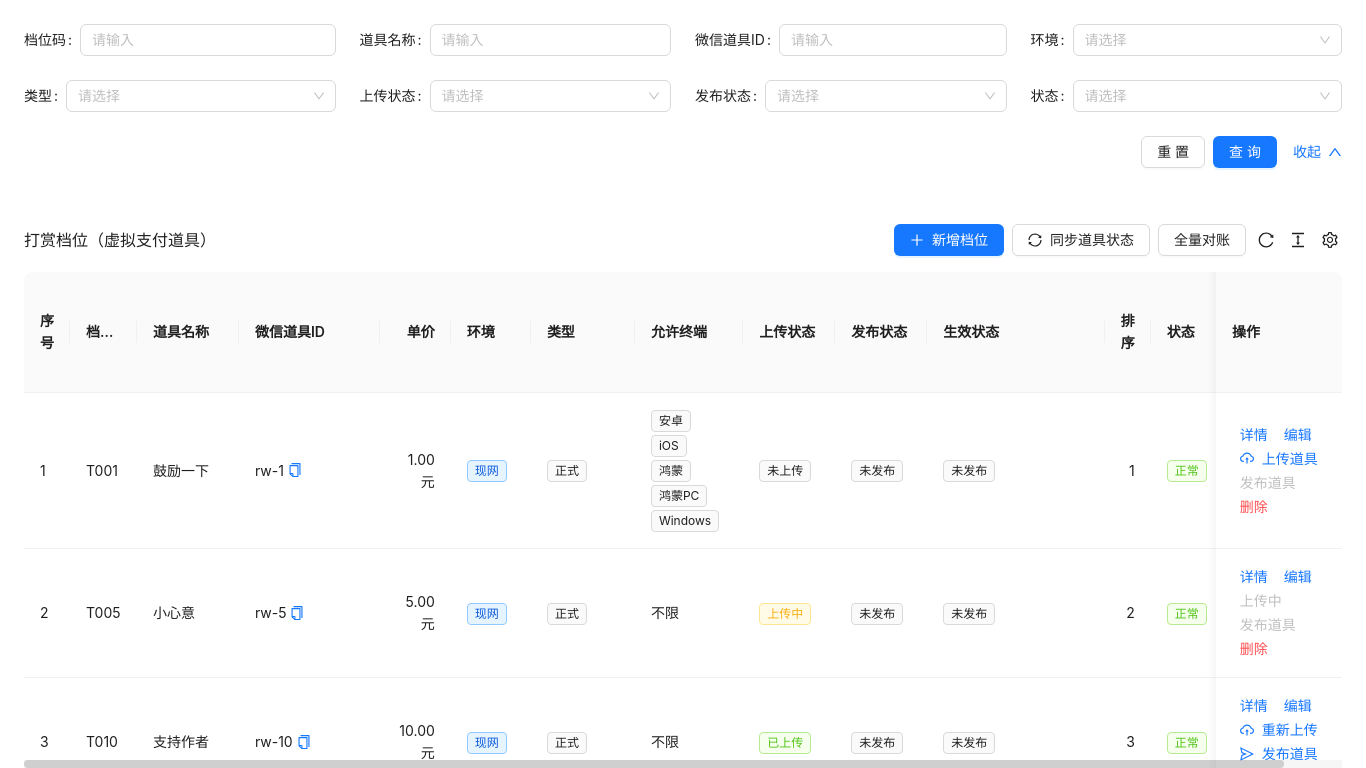
Scenario: 打赏档位页 · 道具上传/发布（异步任务语义） › 受理成功（pending=true）提示「等待微信处理」，不显示「上传成功」，且只出网一次
The width and height of the screenshot is (1366, 768).
Click the button "上传道具" at [1279, 458], box [1232,446,1326,470]
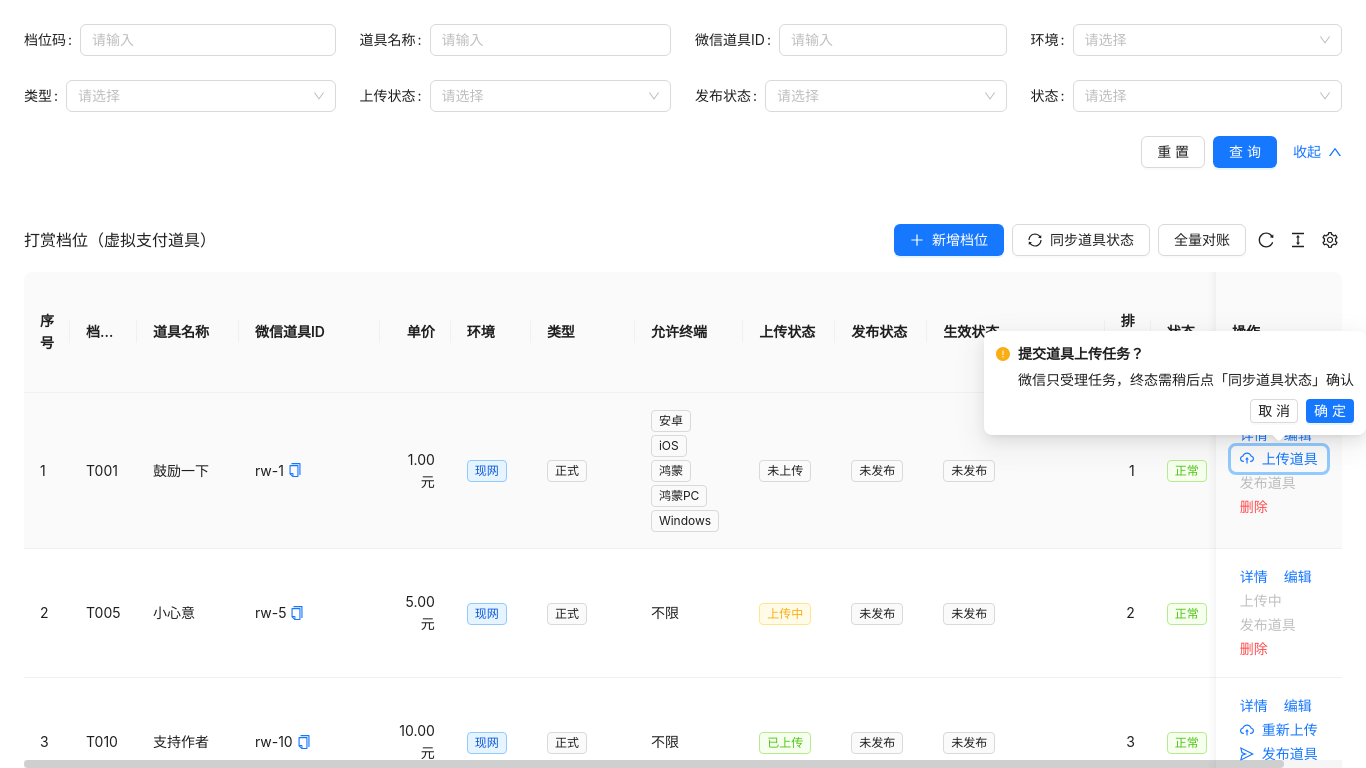
Click the button "确 定" at [1330, 411], box [1306,399,1354,423]
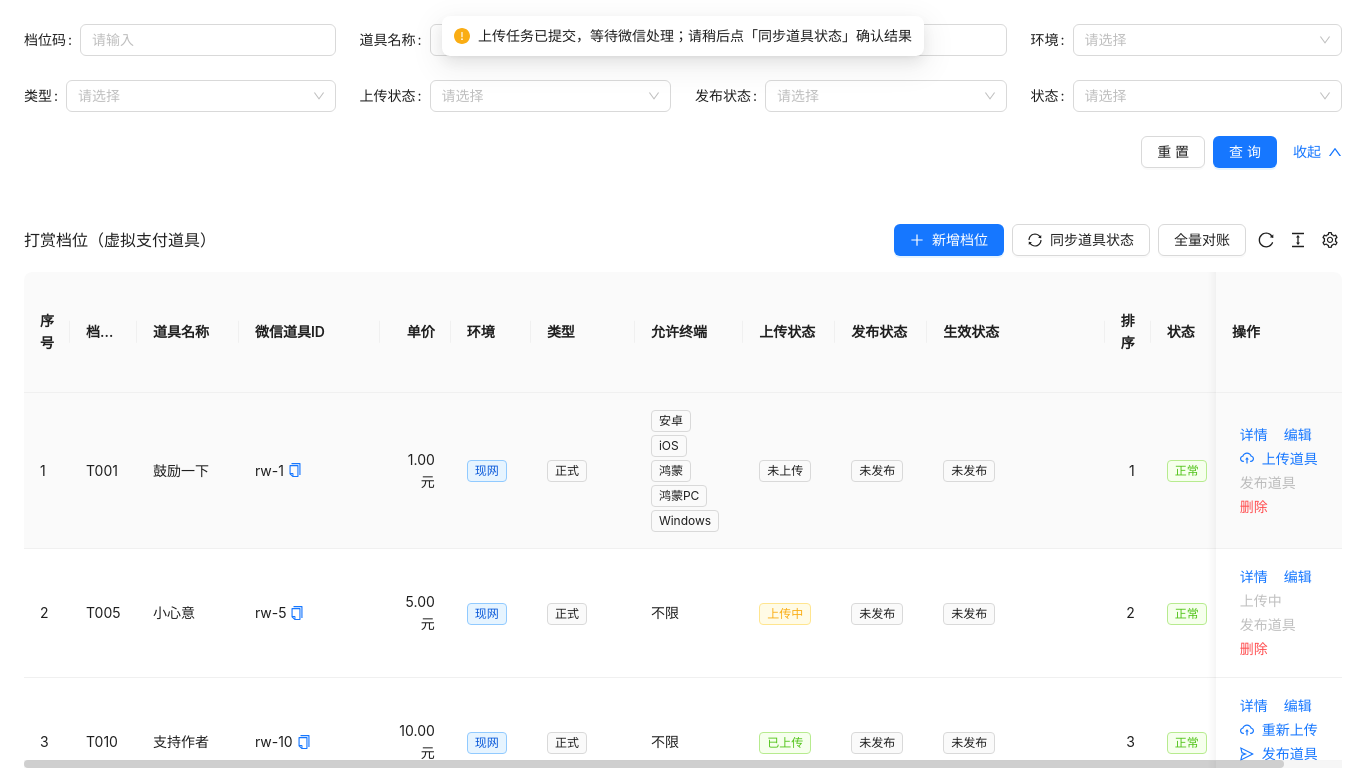
Expected: the text "上传任务已提交，等待微信处理；请稍后点「同步道具状态」确认结果" is shown, [478,25,912,47]
